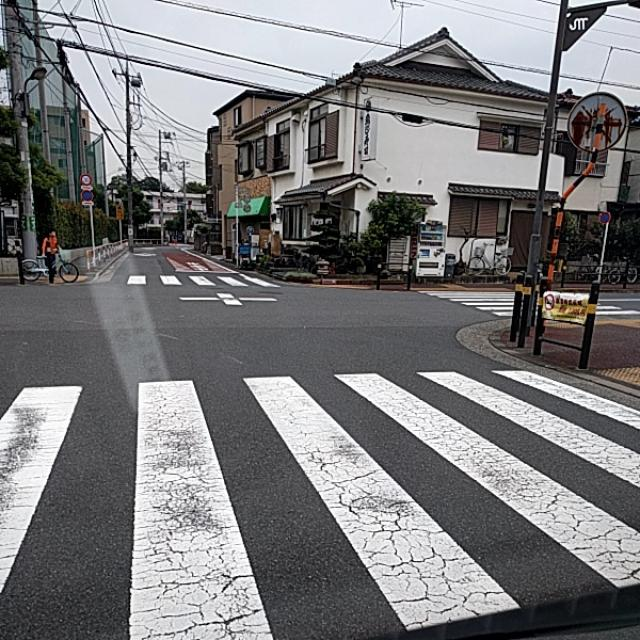pothole: (144, 460, 247, 639)
